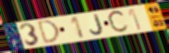1: (128, 7, 143, 32), (70, 15, 85, 40)
3: (19, 22, 41, 47)
C: (106, 9, 130, 35)
D: (37, 19, 62, 45)
J: (89, 13, 105, 36)
